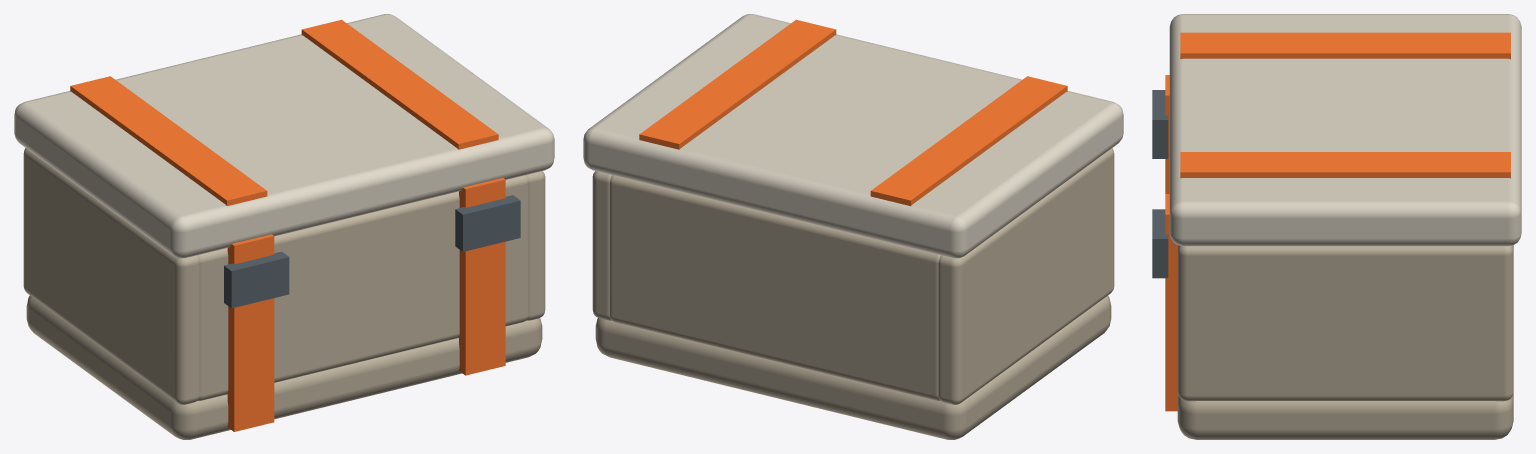
File: base-boss-valve-crate.glb
3 views of the same model, side by side, from view 1: azimuth 30°, elevation 25°; view 2: azimuth 150°, elevation 25°; view 3: azimuth 270°, elevation 25° (orthographic). The views are drawn at different scales.
Visible parts, largest first — view 1: base-boss-valve-crate-oatmeal-thermal-blanket, crate_lid-warm-ceramic-insulation, crate_lid-safety-orange, base-boss-valve-crate-safety-orange, base-boss-valve-crate-dark-steel; view 2: base-boss-valve-crate-oatmeal-thermal-blanket, crate_lid-warm-ceramic-insulation, crate_lid-safety-orange; view 3: crate_lid-warm-ceramic-insulation, base-boss-valve-crate-oatmeal-thermal-blanket, crate_lid-safety-orange, base-boss-valve-crate-safety-orange, base-boss-valve-crate-dark-steel.
Boxes of the visible parts, x1=… form: base-boss-valve-crate-oatmeal-thermal-blanket: x1=23, y1=148, x2=545, y2=439; crate_lid-warm-ceramic-insulation: x1=14, y1=14, x2=554, y2=258; crate_lid-safety-orange: x1=70, y1=19, x2=498, y2=206; base-boss-valve-crate-safety-orange: x1=227, y1=178, x2=505, y2=431; base-boss-valve-crate-dark-steel: x1=224, y1=195, x2=520, y2=308; base-boss-valve-crate-oatmeal-thermal-blanket: x1=592, y1=148, x2=1114, y2=439; crate_lid-warm-ceramic-insulation: x1=583, y1=14, x2=1123, y2=258; crate_lid-safety-orange: x1=639, y1=19, x2=1067, y2=206; crate_lid-warm-ceramic-insulation: x1=1169, y1=14, x2=1521, y2=246; base-boss-valve-crate-oatmeal-thermal-blanket: x1=1177, y1=245, x2=1513, y2=439; crate_lid-safety-orange: x1=1180, y1=32, x2=1510, y2=178; base-boss-valve-crate-safety-orange: x1=1165, y1=75, x2=1177, y2=411; base-boss-valve-crate-dark-steel: x1=1152, y1=90, x2=1168, y2=278.
Bounding box in the file's own units: 0.86 × 0.506 × 0.682.
